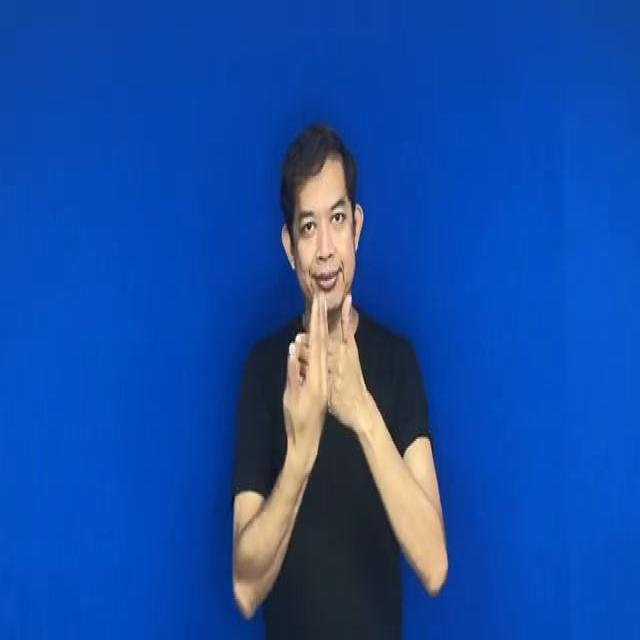bread: (286, 293, 374, 448)
